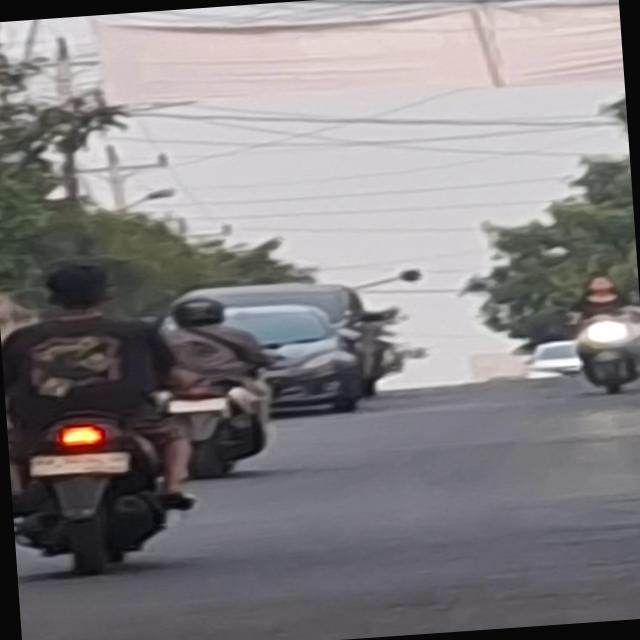WithHelmet: (158, 293, 276, 431)
WithoutHelmet: (0, 249, 203, 578)
